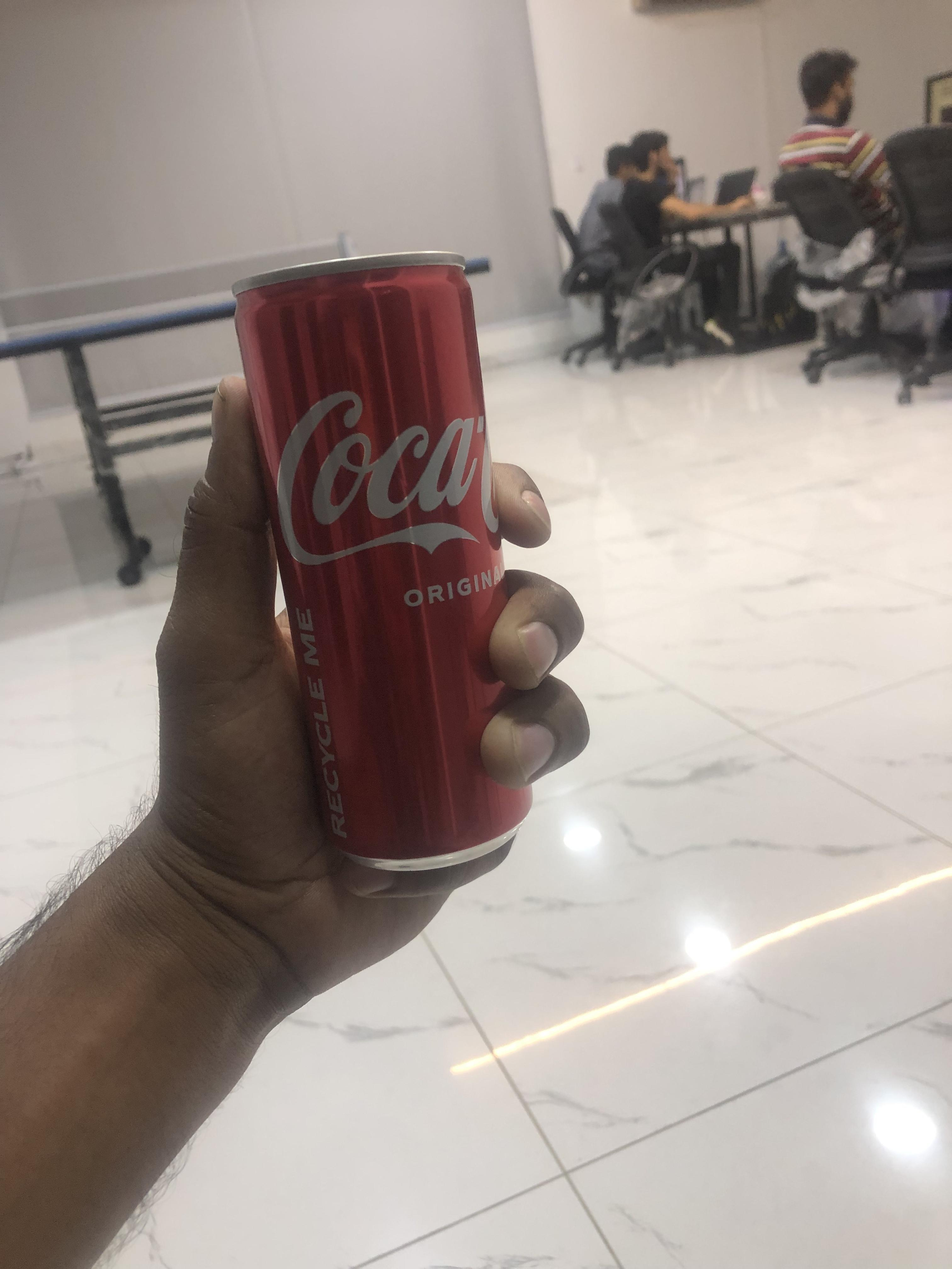tin can: (228, 240, 538, 899)
